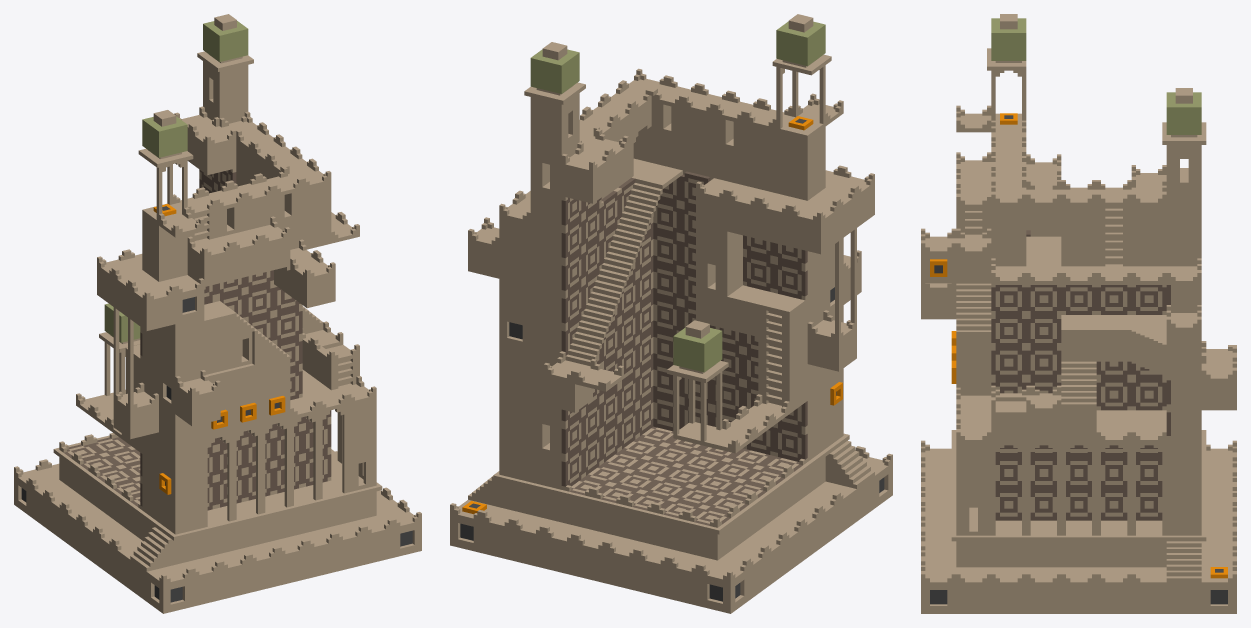
3 renders of one model, left to right at view 1: azimuth 30°, elevation 25°; view 2: azimuth 150°, elevation 25°; view 3: azimuth 270°, elevation 25°, orthographic. The views are drawn at different scales.
Parts seen in each view (by area): view 1: monu10; view 2: monu10; view 3: monu10.
Part boxes in pixels (bbox=[...]): monu10: bbox=[14, 14, 421, 613]; monu10: bbox=[450, 14, 892, 613]; monu10: bbox=[921, 14, 1236, 613].
Bounding box in the file's own units: 7.2 × 12.2 × 7.2.
Materials: 1 (1 with a texture image).
